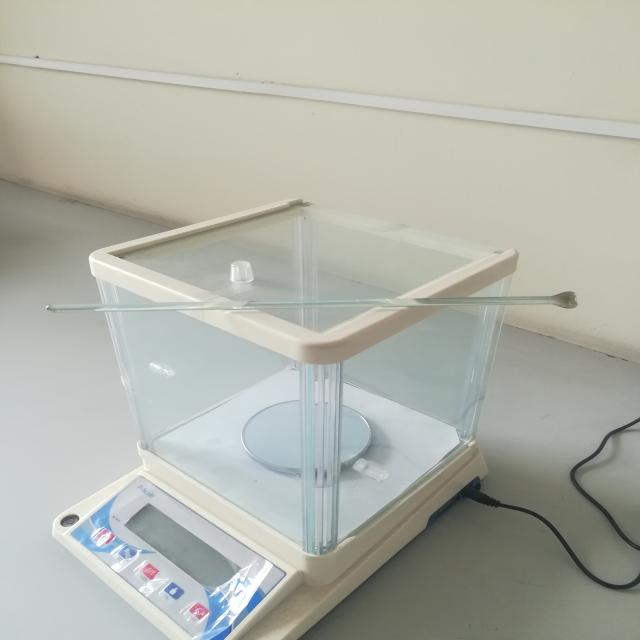Glass_Rod: (26, 276, 592, 335)
